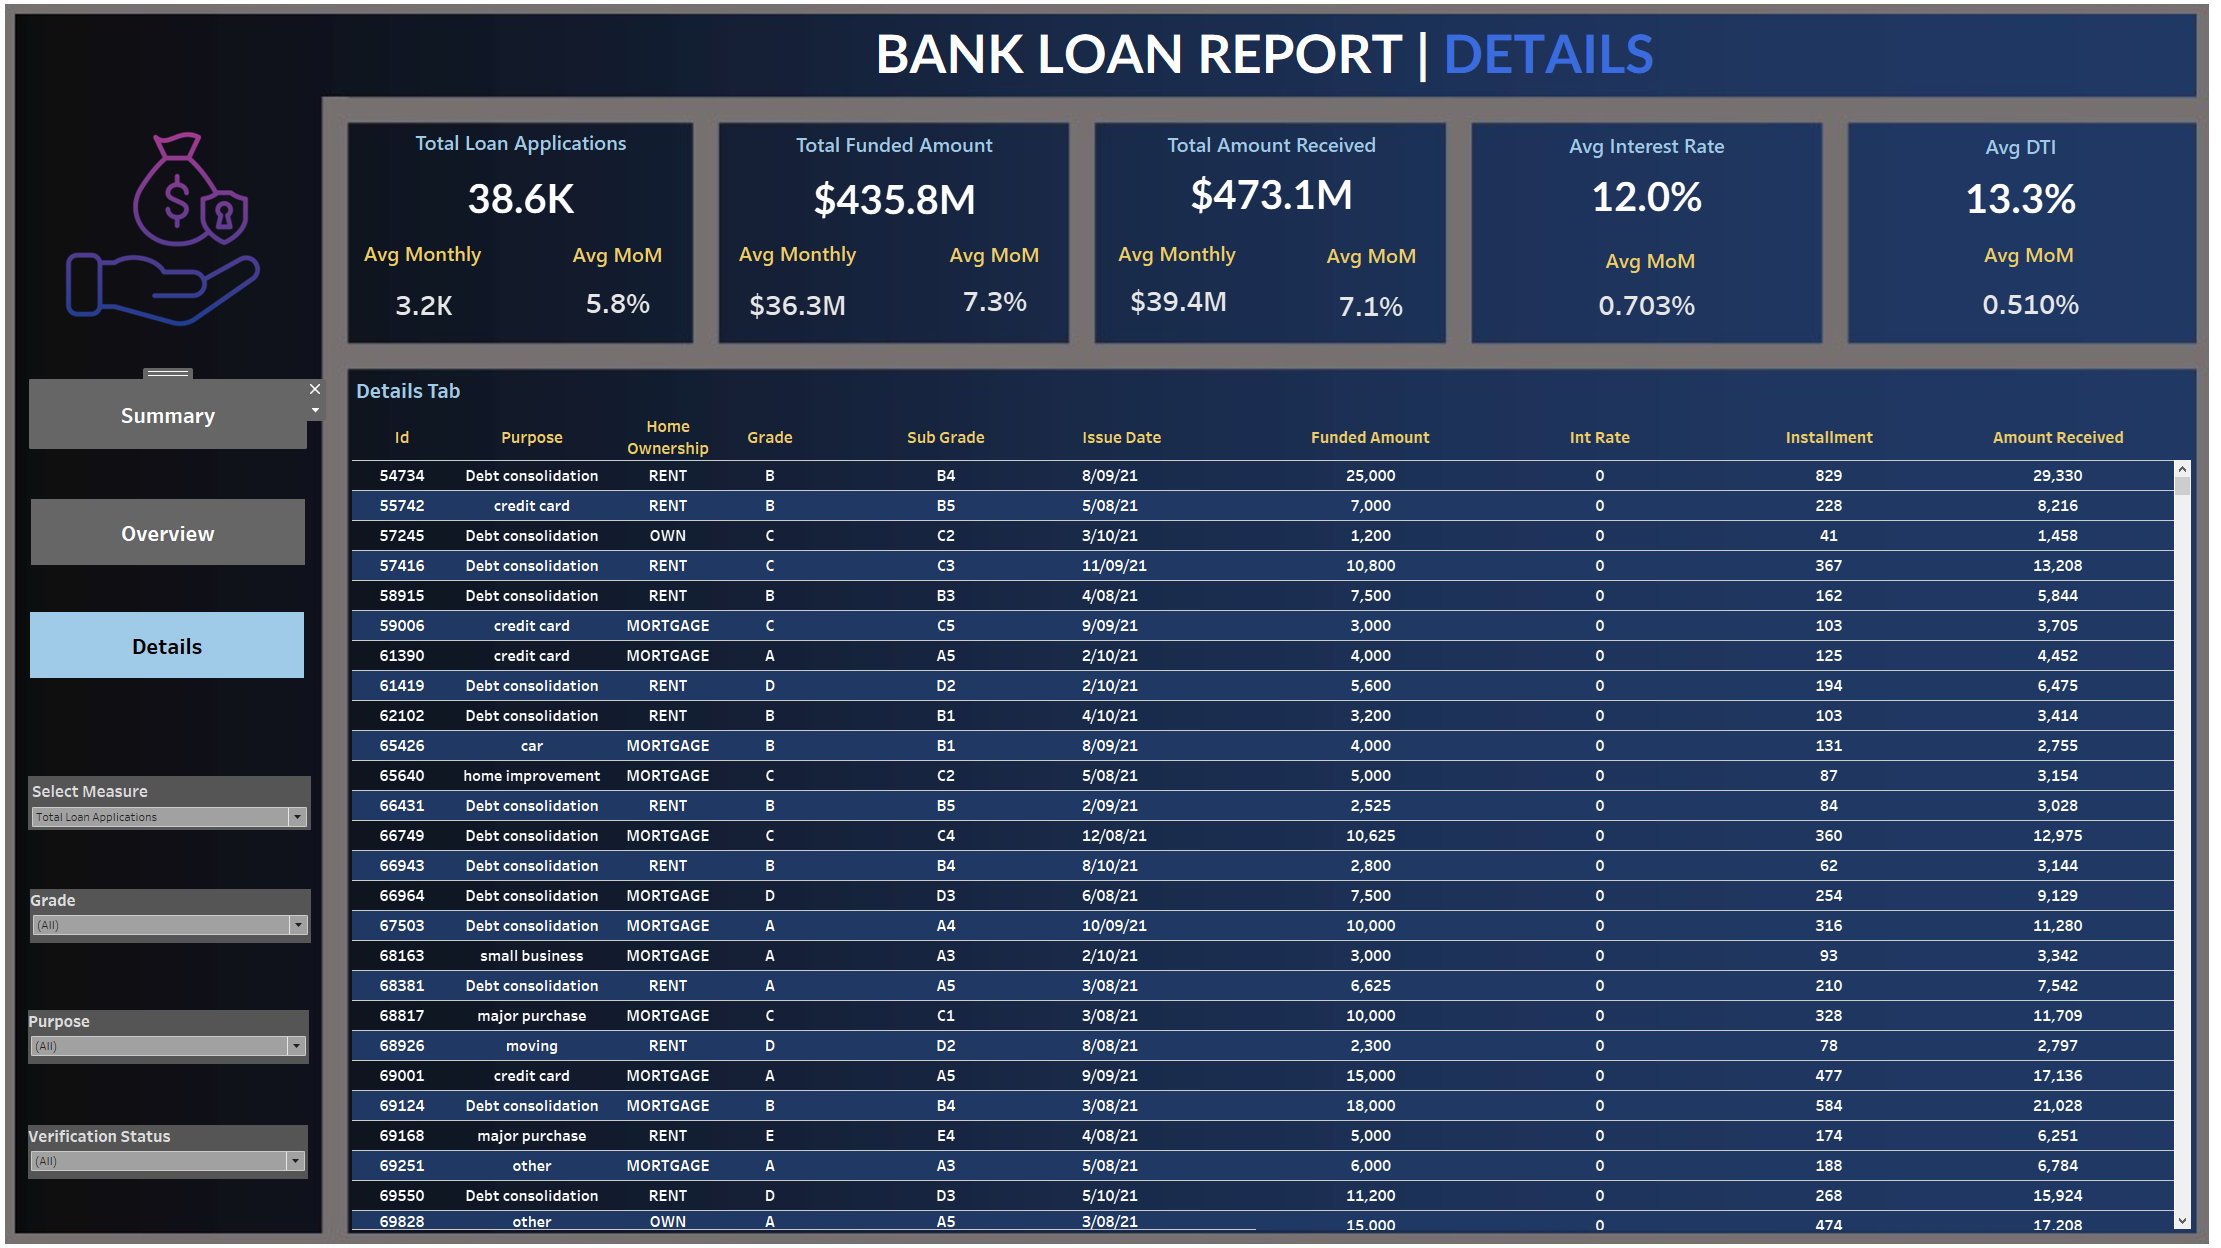

This screenshot's page, from the dashboard's own definition file:
{"tool":"tableau","page":{"name":"Details","canvas":[2349,1264],"ordinal":0},"visuals":[{"type":"image","param":"C:/Users/AAA/Documents/Coding/SQL/Projects/Bank Loan Project/src/img/Dashboard/T","box":[8,8,2333,1248]},{"type":"text","box":[934.9,27,920.1,76]},{"type":"image","param":"C:/Users/AAA/Documents/Coding/SQL/Projects/Bank Loan Project/src/img/Dashboard/c","box":[127,128,206,219]},{"type":"worksheet","title":"Total Loan Applications","mark":"Automatic","box":[417,132,342,112]},{"type":"worksheet","title":"Total Funded Amount","mark":"Automatic","box":[787,134,349,109]},{"type":"worksheet","title":"Total Amount Received","mark":"Automatic","box":[1165,134,348,99]},{"type":"worksheet","title":"Avg Interest Rate","mark":"Automatic","box":[1540,135,348,101]},{"type":"worksheet","title":"Avg DTI","mark":"Automatic","box":[1916,136,344,103]},{"type":"text","box":[425,246,129,30]},{"type":"text","box":[800,246,129,30]},{"type":"text","box":[1179,246,130,30]},{"type":"text","box":[620,247,129,30]},{"type":"text","box":[997.5,247,129.3,30]},{"type":"text","box":[2031,247,130,30]},{"type":"text","box":[1374,248,129,30]},{"type":"text","box":[1653,253,129,30]},{"type":"worksheet","title":"Avg MoM Loan Applications","mark":"Automatic","cols":["issue_date"],"box":[611,276,148,68]},{"type":"worksheet","title":"Avg MoM Funded Loan","mark":"Automatic","cols":["issue_date"],"box":[989,276,146.3,63]},{"type":"worksheet","title":"Avg Monthly Amount Received","mark":"Automatic","box":[1169,277,153,62]},{"type":"worksheet","title":"Avg Monthly Funded Loan","mark":"Automatic","box":[790,280,150,63]},{"type":"worksheet","title":"MoM DTI","mark":"Automatic","cols":["issue_date"],"box":[2032,280,132,62]},{"type":"worksheet","title":"Avg Monthly Loan Applications","mark":"Automatic","box":[416,281,150,62]},{"type":"worksheet","title":"Avg MoM Amount Received","mark":"Automatic","cols":["issue_date"],"box":[1361,281,153,64]},{"type":"worksheet","title":"MoM Interest Rate","mark":"Automatic","cols":["issue_date"],"box":[1635,281,158,62]},{"type":"worksheet","title":"Details Tab","mark":"Automatic","rows":["id","purpose","home_ownership","grade","sub_grade","issue_date"],"box":[419,380,1839,858]},{"type":"dashboard-object","box":[98,389,274,66]},{"type":"dashboard-object","box":[98,507,274,66]},{"type":"dashboard-object","box":[97,620,274,66]},{"type":"parameter","param":"[Parameters].[Parameter 1]","box":[95,784,283,54]},{"type":"filter","title":"Avg DTI","param":"[federated.0fsphwt0lwau0m1359zk90dzj1ah].[none:grade:nk]","box":[97,897,281,54]},{"type":"filter","title":"Avg DTI","param":"[federated.0fsphwt0lwau0m1359zk90dzj1ah].[none:purpose:nk]","box":[95,1018,281,54]},{"type":"filter","title":"Avg DTI","param":"[federated.0fsphwt0lwau0m1359zk90dzj1ah].[none:verification_status:nk]","box":[95,1133,280,54]}]}

Visuals, with their boxes on the page's 2349x1264 design canvas (x1, y1, x2, y2). These are canvas units, not pixel positions in the 2221x1248 screenshot, which may show the page scaled, cropped or inside an application window:
image: <region>8, 8, 2341, 1256</region>
text: <region>935, 27, 1855, 103</region>
image: <region>127, 128, 333, 347</region>
"Total Loan Applications" worksheet: <region>417, 132, 759, 244</region>
"Total Funded Amount" worksheet: <region>787, 134, 1136, 243</region>
"Total Amount Received" worksheet: <region>1165, 134, 1513, 233</region>
"Avg Interest Rate" worksheet: <region>1540, 135, 1888, 236</region>
"Avg DTI" worksheet: <region>1916, 136, 2260, 239</region>
text: <region>425, 246, 554, 276</region>
text: <region>800, 246, 929, 276</region>
text: <region>1179, 246, 1309, 276</region>
text: <region>620, 247, 749, 277</region>
text: <region>998, 247, 1127, 277</region>
text: <region>2031, 247, 2161, 277</region>
text: <region>1374, 248, 1503, 278</region>
text: <region>1653, 253, 1782, 283</region>
"Avg MoM Loan Applications" worksheet: <region>611, 276, 759, 344</region>
"Avg MoM Funded Loan" worksheet: <region>989, 276, 1135, 339</region>
"Avg Monthly Amount Received" worksheet: <region>1169, 277, 1322, 339</region>
"Avg Monthly Funded Loan" worksheet: <region>790, 280, 940, 343</region>
"MoM DTI" worksheet: <region>2032, 280, 2164, 342</region>
"Avg Monthly Loan Applications" worksheet: <region>416, 281, 566, 343</region>
"Avg MoM Amount Received" worksheet: <region>1361, 281, 1514, 345</region>
"MoM Interest Rate" worksheet: <region>1635, 281, 1793, 343</region>
"Details Tab" worksheet: <region>419, 380, 2258, 1238</region>
dashboard-object: <region>98, 389, 372, 455</region>
dashboard-object: <region>98, 507, 372, 573</region>
dashboard-object: <region>97, 620, 371, 686</region>
parameter: <region>95, 784, 378, 838</region>
"Avg DTI" filter: <region>97, 897, 378, 951</region>
"Avg DTI" filter: <region>95, 1018, 376, 1072</region>
"Avg DTI" filter: <region>95, 1133, 375, 1187</region>
